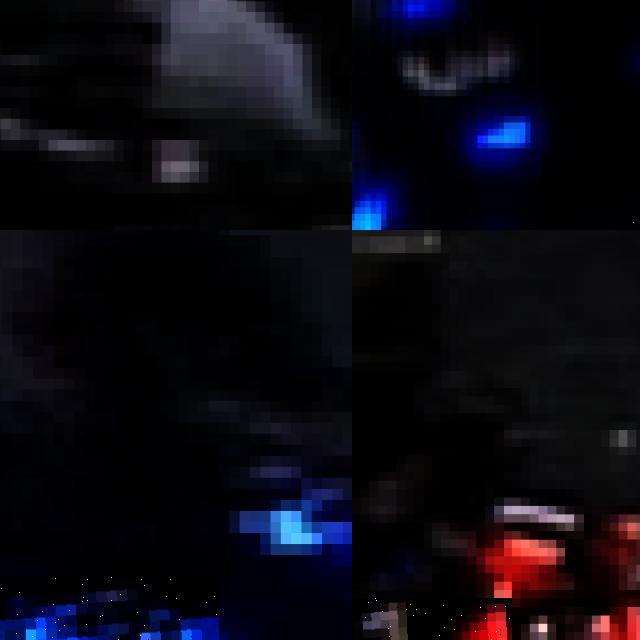B3: (0, 577, 218, 640), (352, 115, 386, 230)
R1: (352, 598, 511, 640)
